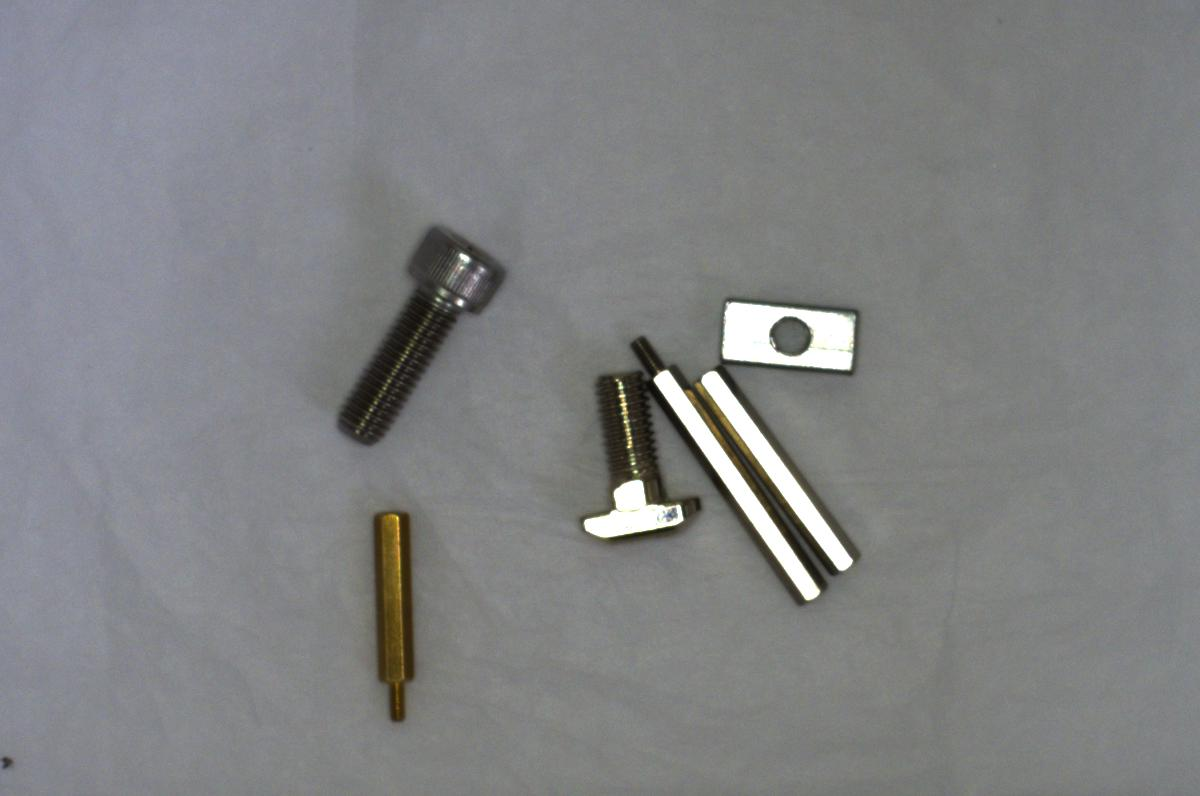Double hexagonal column: (688, 362, 871, 581)
Hexagon pillar: (361, 499, 427, 728)
Hexagon screw: (335, 221, 502, 441)
Hexagonal steel column: (625, 330, 824, 610)
Rectangular nut: (715, 287, 862, 372)
T-shaped screw: (572, 363, 705, 545)
